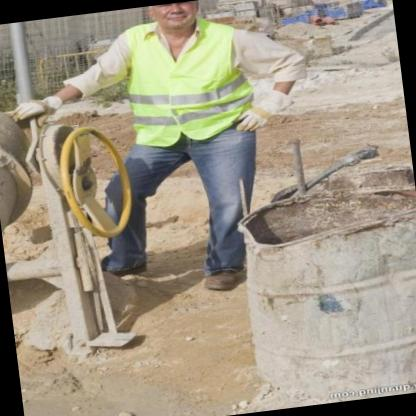helmet: (134, 1, 213, 38)
